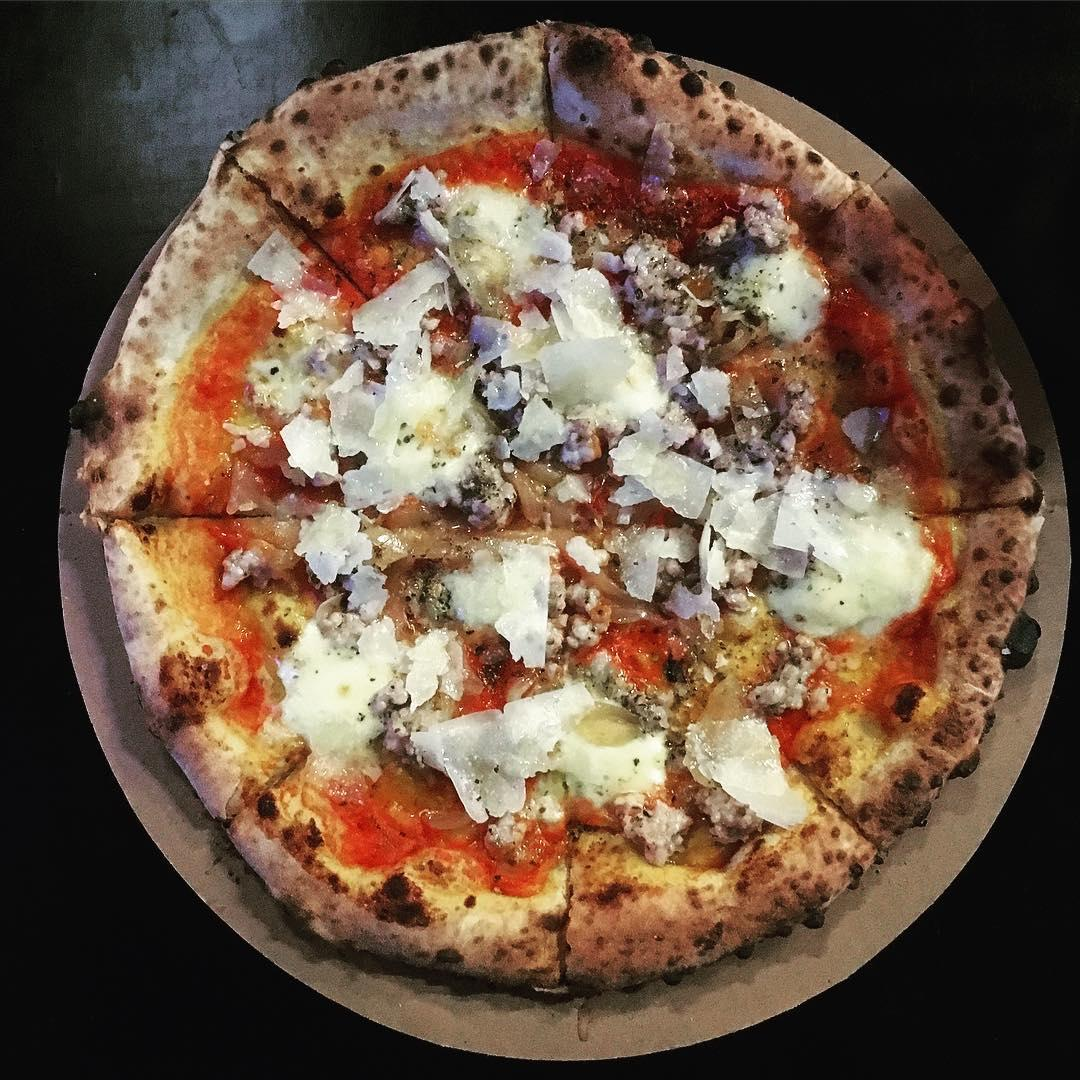Cheese: (428, 698, 675, 819), (523, 273, 675, 442), (316, 373, 484, 502), (773, 496, 934, 620), (283, 626, 432, 757), (440, 534, 567, 664), (431, 186, 569, 301), (693, 711, 817, 825), (623, 446, 759, 540), (343, 278, 449, 362)
Pizza: (86, 33, 1041, 992)
